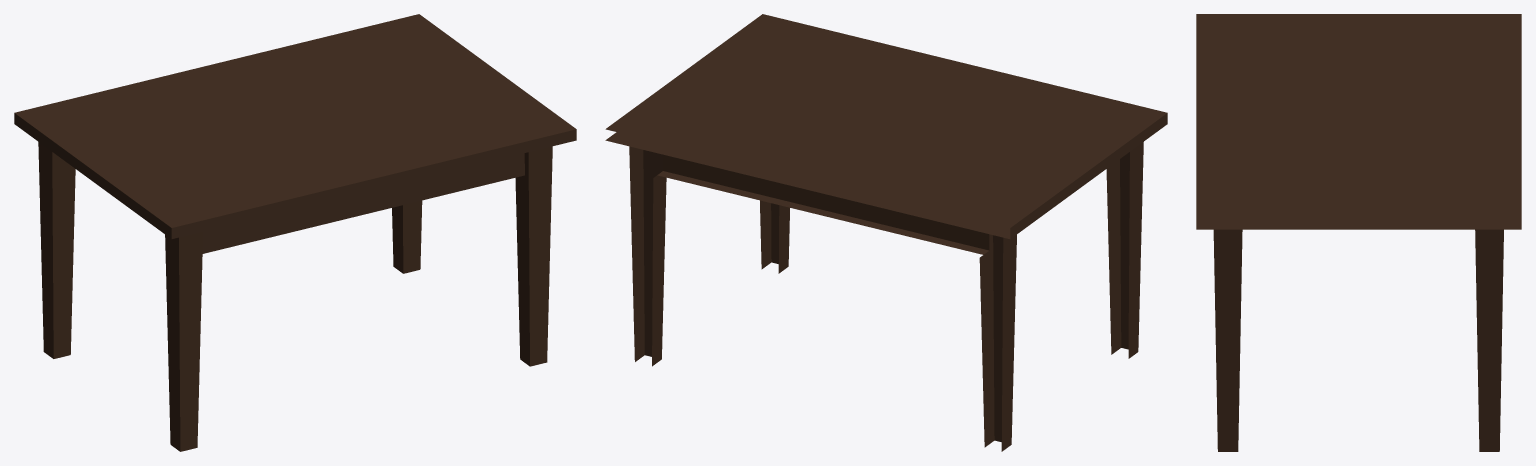
The model's file is Wide Table Model.fbx.
3 renders of one model, left to right at view 1: azimuth 30°, elevation 25°; view 2: azimuth 150°, elevation 25°; view 3: azimuth 270°, elevation 25°, orthographic. The views are drawn at different scales.
Visible parts, largest first — view 1: Cube; view 2: Cube; view 3: Cube.
Boxes of the visible parts, left/top/right/bottom form: Cube: left=14, top=14, right=576, bottom=451; Cube: left=605, top=14, right=1167, bottom=451; Cube: left=1196, top=14, right=1521, bottom=451.
Size of the model in its own units: 431 by 240 by 290.
